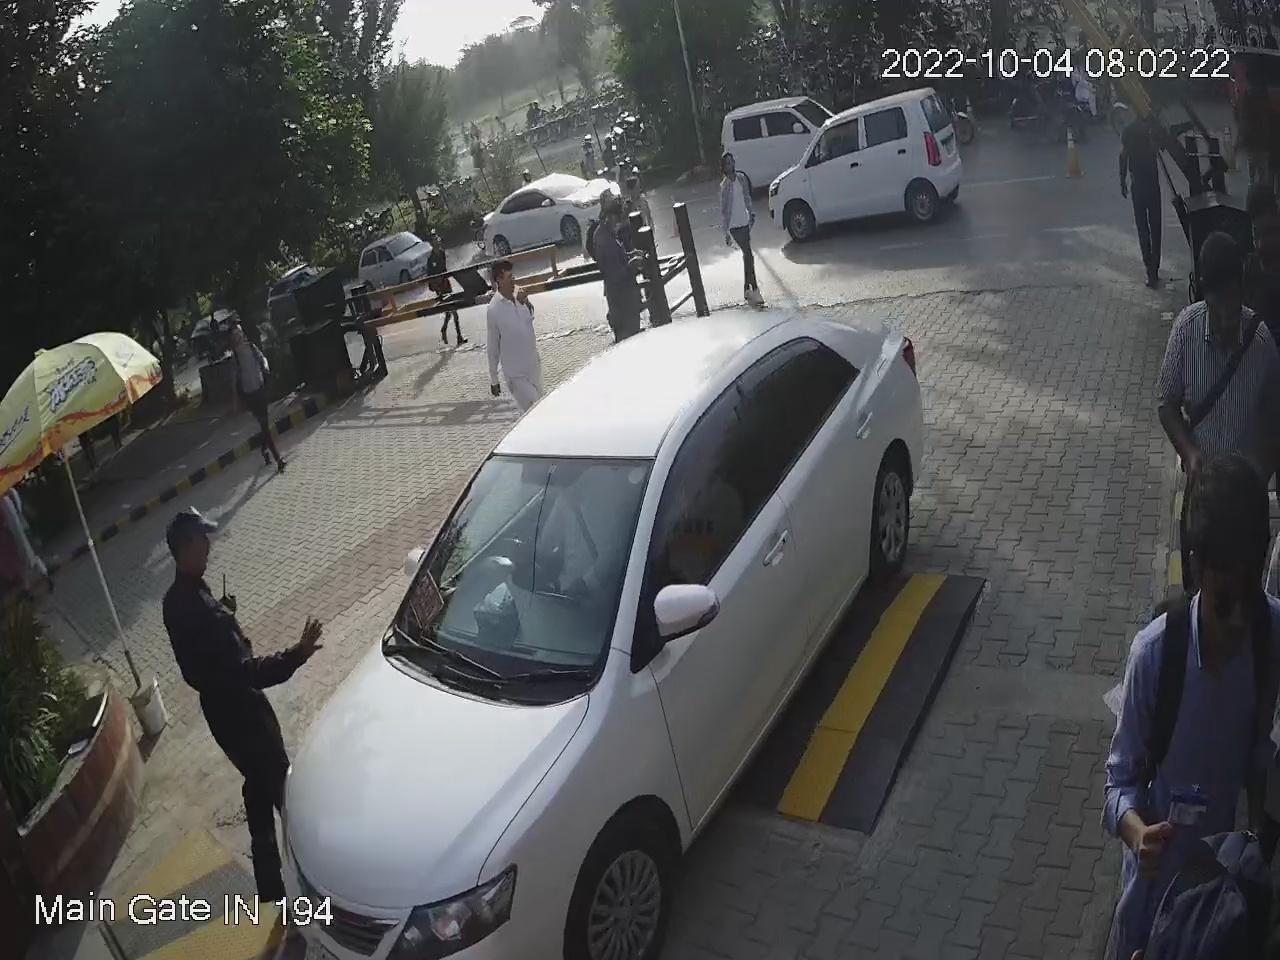windshield: (383, 440, 668, 722)
